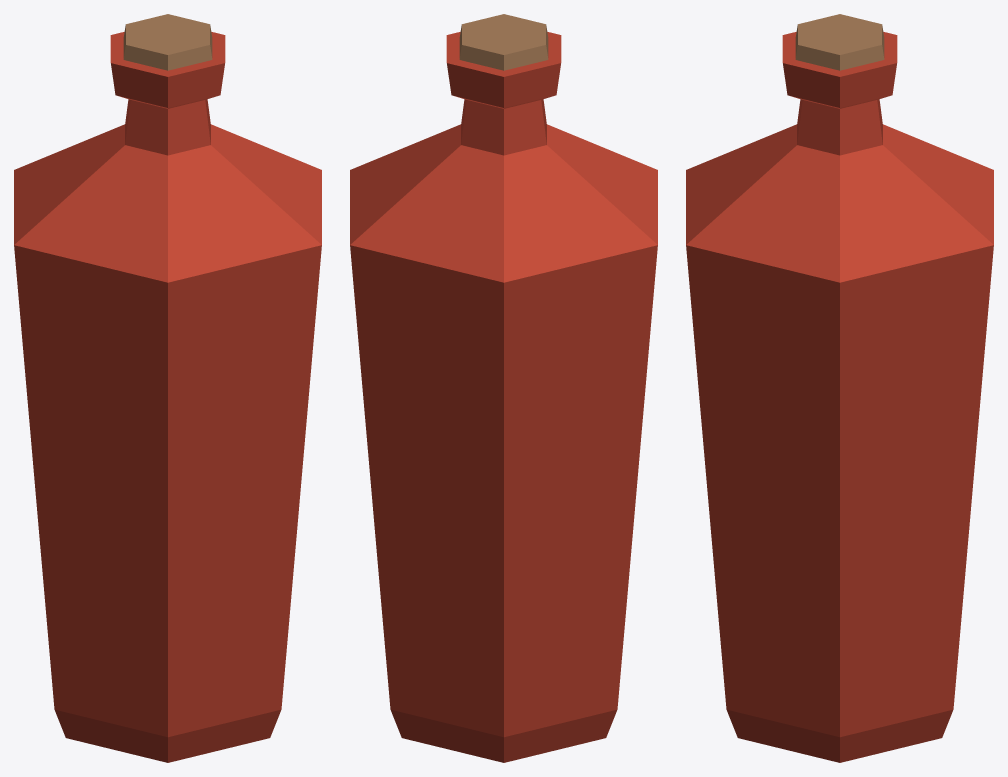
The model's file is Red_Potion_13.fbx.
3 views of the same model, side by side, from view 1: azimuth 30°, elevation 25°; view 2: azimuth 150°, elevation 25°; view 3: azimuth 270°, elevation 25° (orthographic).
Parts seen in each view (by area): view 1: Red_Potion_13; view 2: Red_Potion_13; view 3: Red_Potion_13.
Boxes of the visible parts, x1=… form: Red_Potion_13: x1=14, y1=14, x2=321, y2=762; Red_Potion_13: x1=350, y1=14, x2=657, y2=762; Red_Potion_13: x1=686, y1=14, x2=993, y2=762.
Size of the model in its own units: 17.9 by 37.69 by 15.5.
